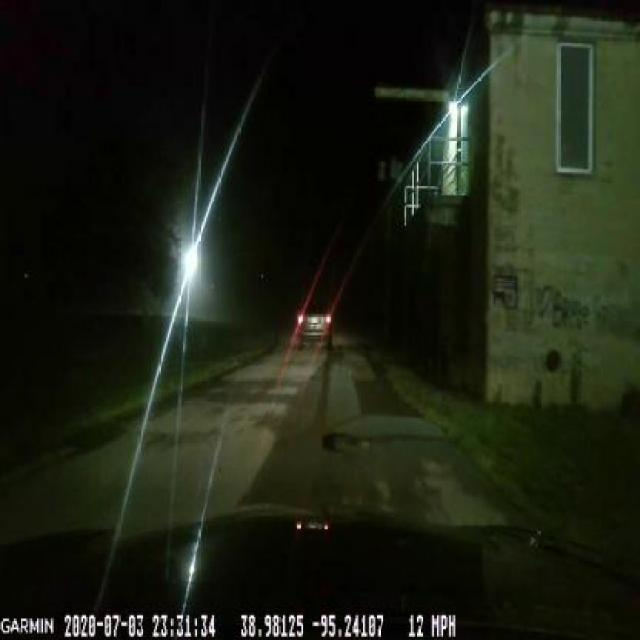Pothole: (315, 429, 377, 466)
